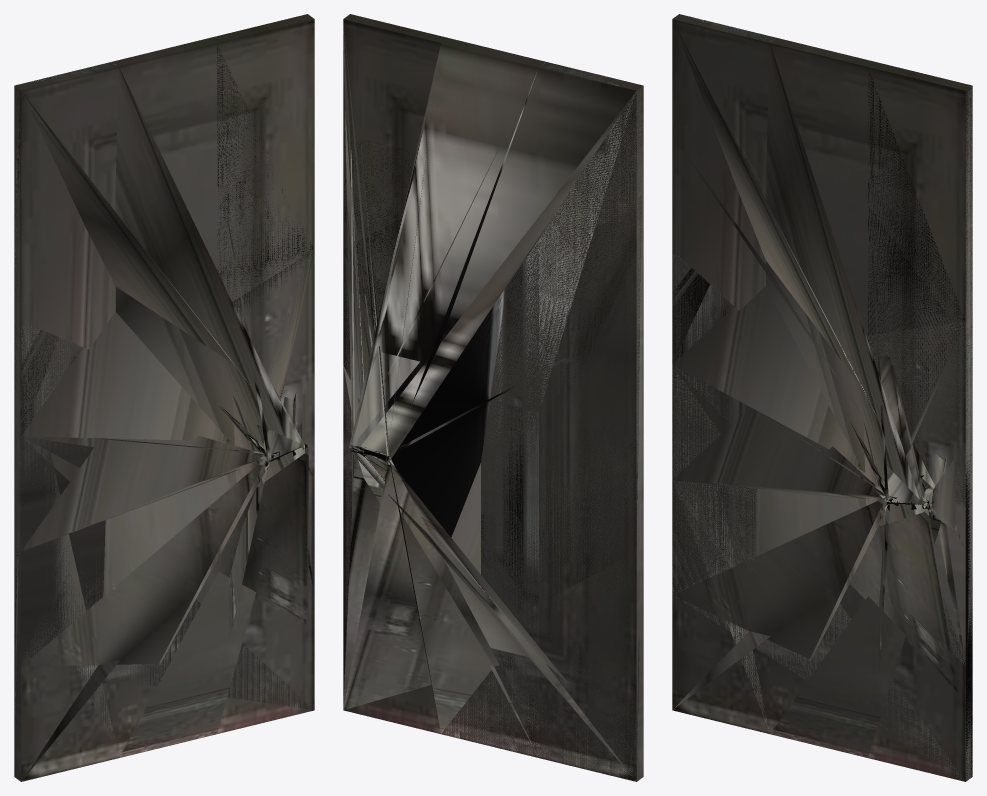
The model's file is door01_left.glb.
3 views of the same model, side by side, from view 1: azimuth 30°, elevation 25°; view 2: azimuth 150°, elevation 25°; view 3: azimuth 330°, elevation 25° (orthographic).
Visible parts, largest first — view 1: 0_door01a, 1_door01a_powerlock; view 2: 0_door01a, 1_door01a_powerlock; view 3: 0_door01a, 1_door01a_powerlock.
Boxes of the visible parts, x1,y1,x2,y2 form: 0_door01a: (14,14,314,781); 1_door01a_powerlock: (14,45,313,651); 0_door01a: (343,14,643,781); 1_door01a_powerlock: (343,63,643,755); 0_door01a: (672,14,972,781); 1_door01a_powerlock: (672,18,972,781).
Size of the model in its own units: 1.22 by 2.74 by 0.2979.
2 materials, 2 textured.
